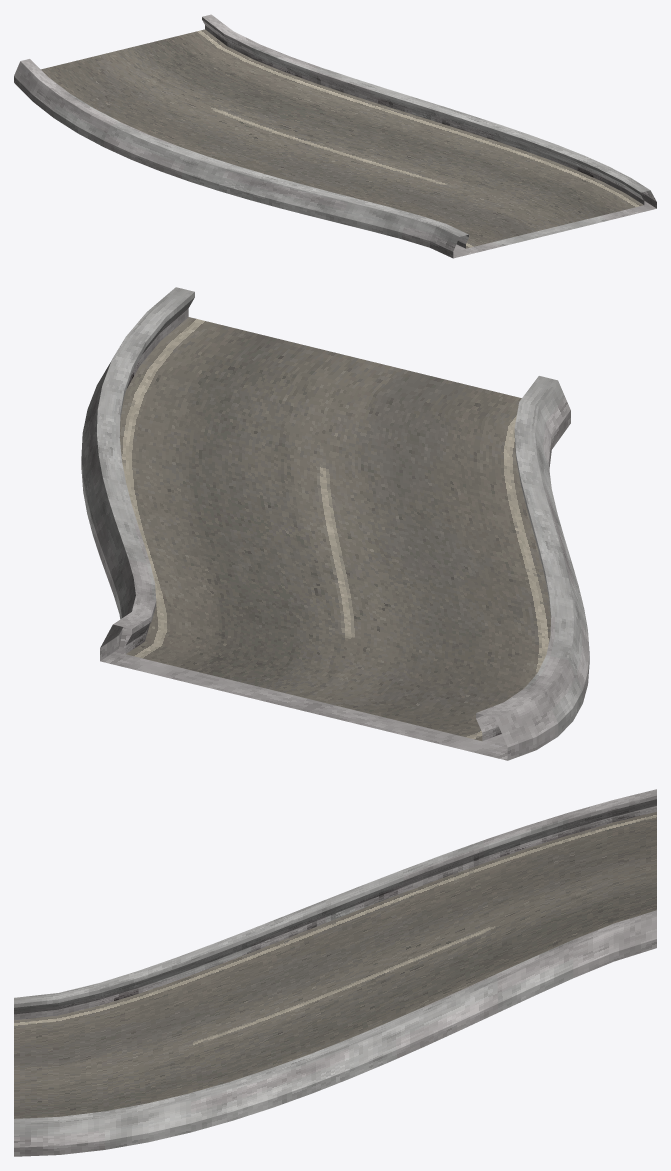
File: chicane-left1x2.glb
The picture shows the model from 3 angles, top to bottom: view 1: azimuth 30°, elevation 25°; view 2: azimuth 150°, elevation 25°; view 3: azimuth 270°, elevation 25°; orthographic projection. The views are drawn at different scales.
Parts seen in each view (by area): view 1: road-Chicane-Flat-BiSlopeUp-Up1-Left1-Size2; view 2: road-Chicane-Flat-BiSlopeUp-Up1-Left1-Size2; view 3: road-Chicane-Flat-BiSlopeUp-Up1-Left1-Size2.
Boxes of the visible parts, bbox=[...] form: road-Chicane-Flat-BiSlopeUp-Up1-Left1-Size2: bbox=[14, 14, 656, 258]; road-Chicane-Flat-BiSlopeUp-Up1-Left1-Size2: bbox=[81, 287, 589, 760]; road-Chicane-Flat-BiSlopeUp-Up1-Left1-Size2: bbox=[14, 789, 656, 1156].
Size of the model in its own units: 2 by 0.3438 by 2.
Materials: 2 (2 with a texture image).
